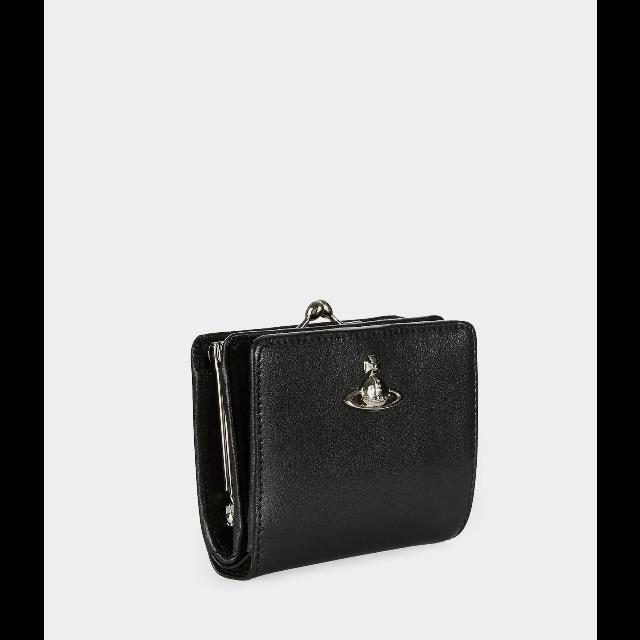wallet: (191, 313, 477, 579)
